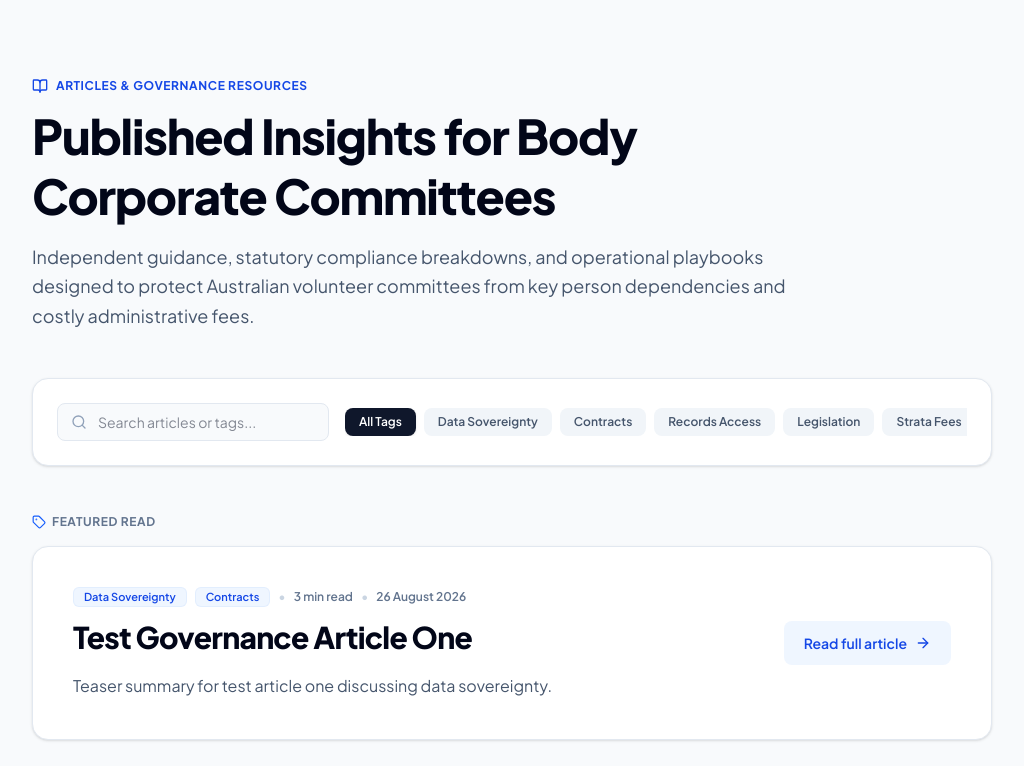
Test: ArticlesPage Component › Suite 2: Keyword Search & Empty State › clears search input when clicking the clear search (X) button
Type "Search Fees" into the field with placeholder "Search articles or tags...".
click(193, 422); type("Search Fees")  # box [57,403,329,441]
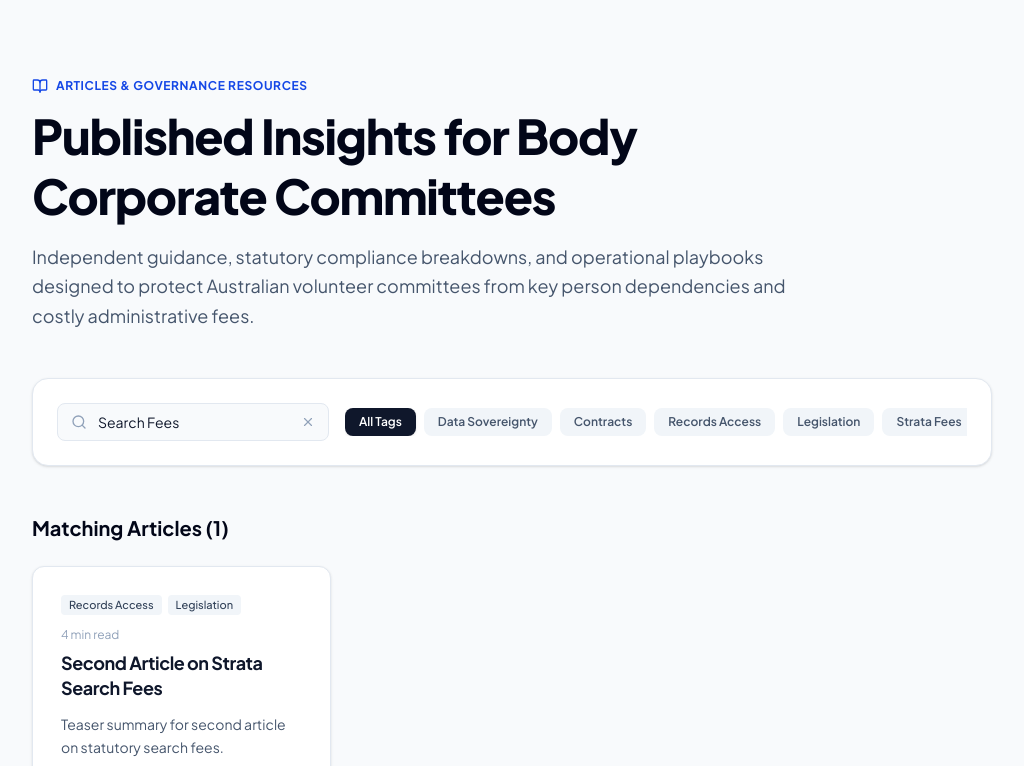
Now the button named "Clear search" is shown
Click the button named "Clear search".
click(308, 422)  # box [297,411,319,433]
(page scrolled)
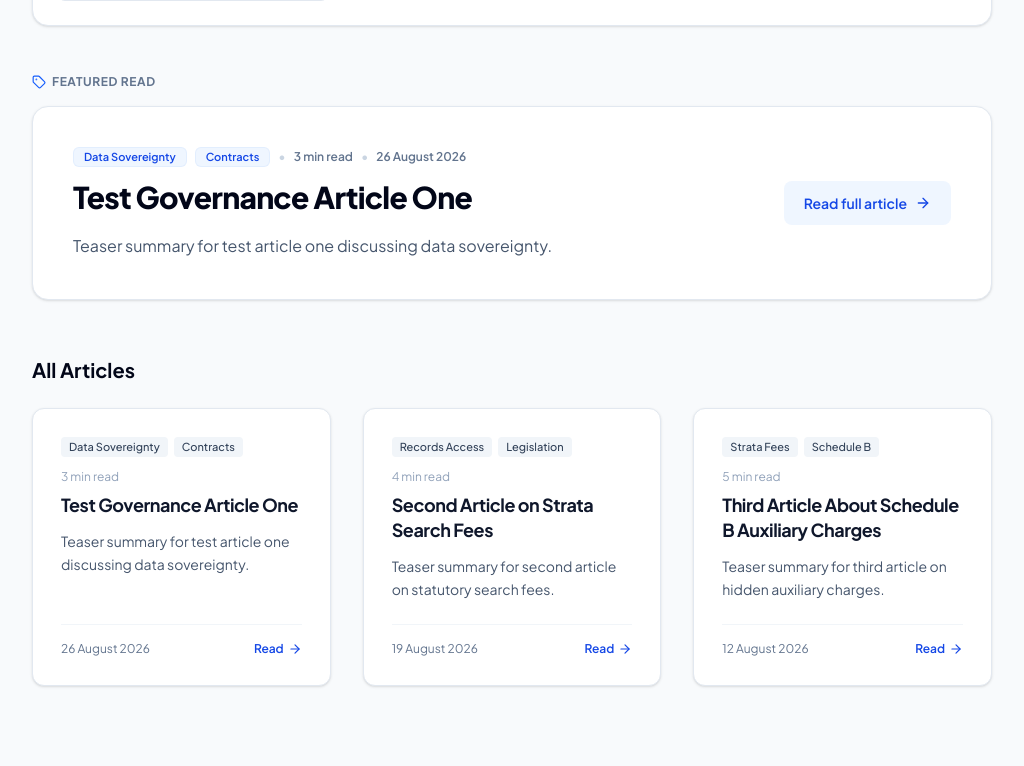
Now the heading "All Articles" is shown, box [32,356,135,384]
Now the heading "Third Article About Schedule B Auxiliary Charges" is shown, box [722,493,963,543]
